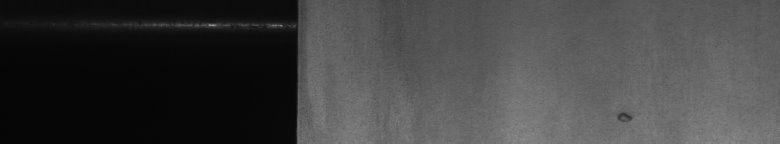fi: (612, 102, 648, 128)
